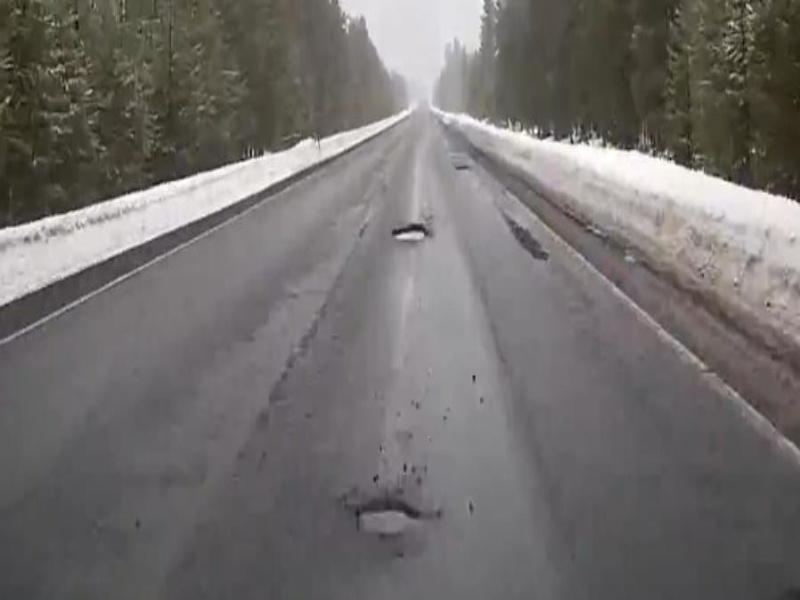pothole: (348, 499, 430, 539), (386, 224, 430, 244)
